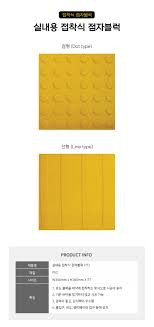guide_blocks: (39, 56, 115, 127), (43, 156, 112, 222)
